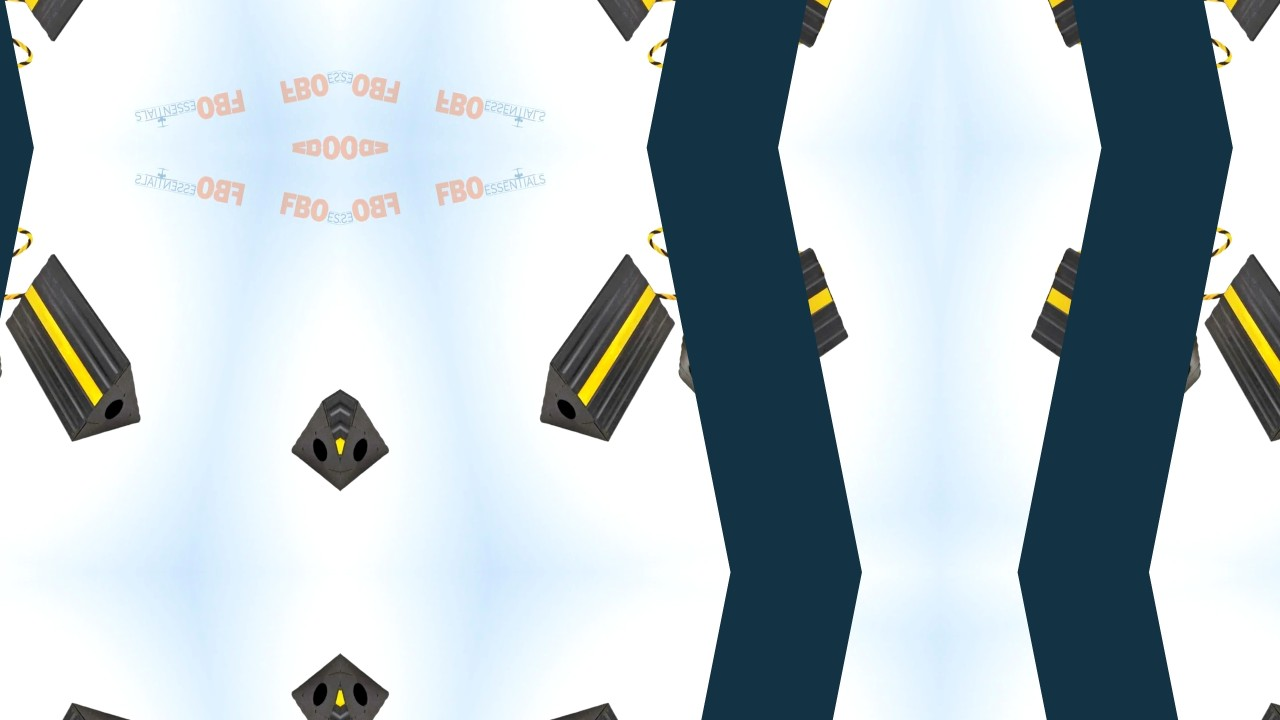chock: (508, 242, 696, 457), (660, 239, 862, 433), (1018, 239, 1220, 433), (0, 242, 172, 457), (1184, 242, 1280, 457), (281, 301, 340, 516), (340, 301, 399, 516), (660, 0, 862, 56), (1018, 0, 1220, 56), (508, 0, 696, 53), (0, 0, 172, 53), (508, 688, 696, 720), (0, 688, 172, 720), (281, 629, 340, 720), (340, 629, 399, 720), (1184, 0, 1280, 53)
